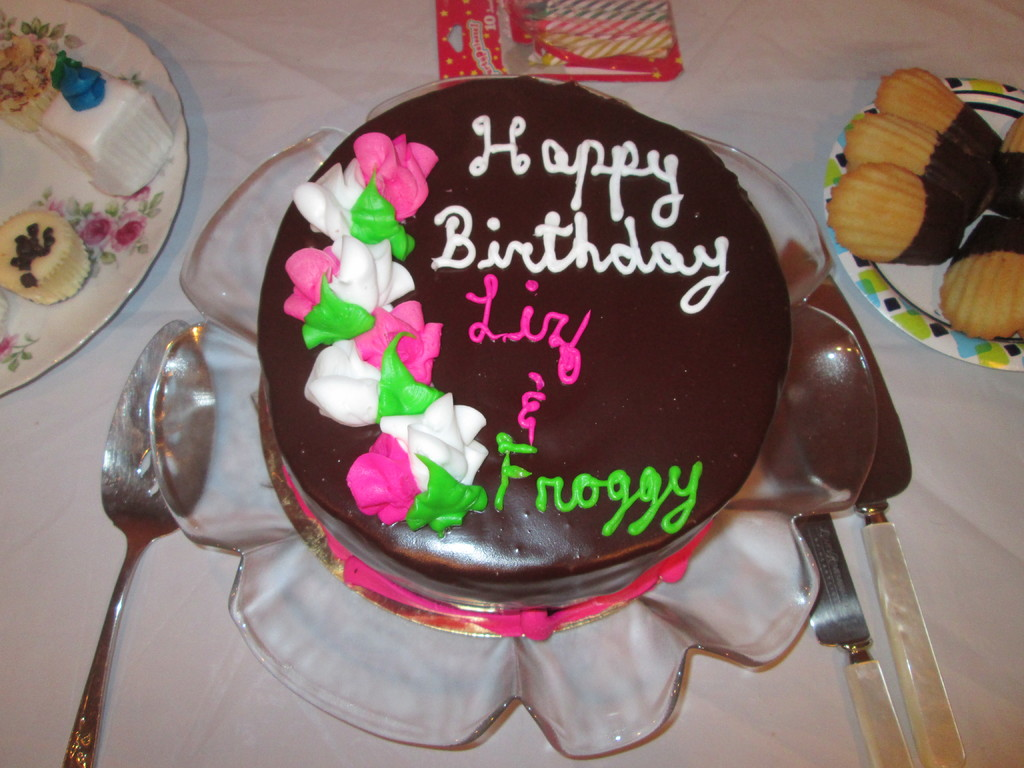plate: (2, 38, 170, 376)
